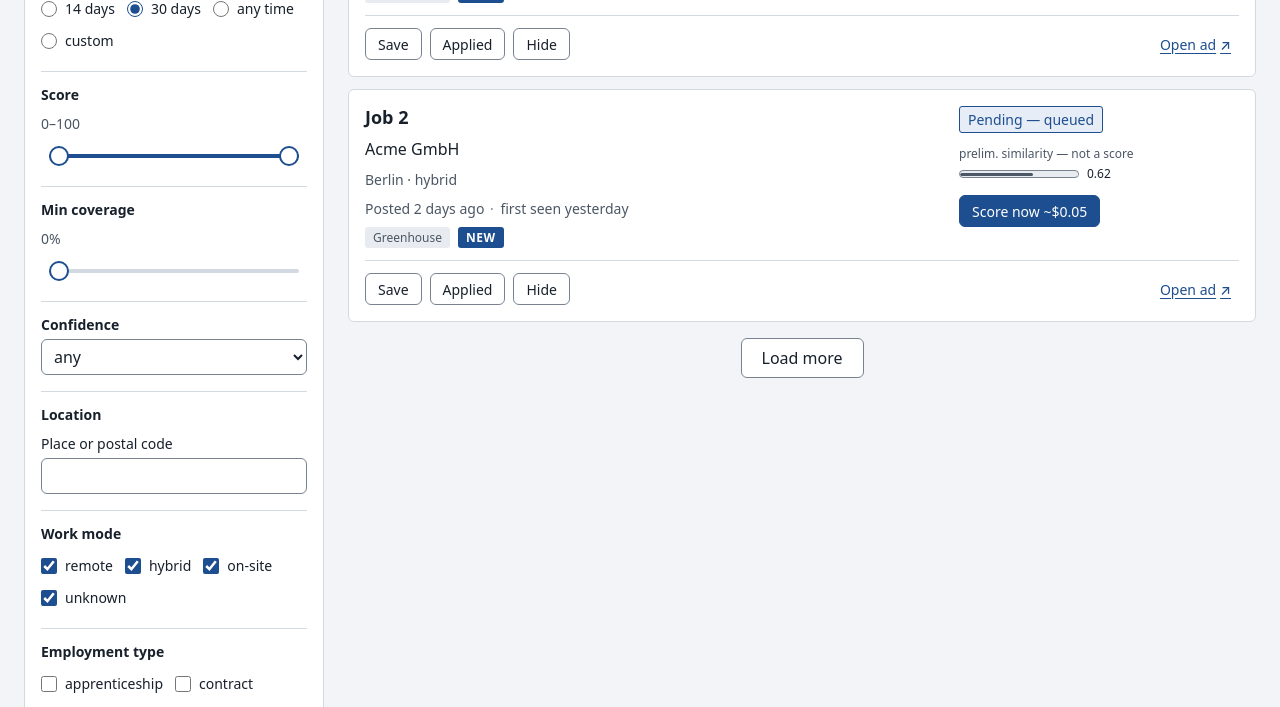
Test: JobsPage › restarts from page 1 on invalid_cursor
(page scrolled)
Expected: the element "Job 2" is shown, [348,89,1256,322]
Click the button "Load more": (802, 358) [740,338,864,378]
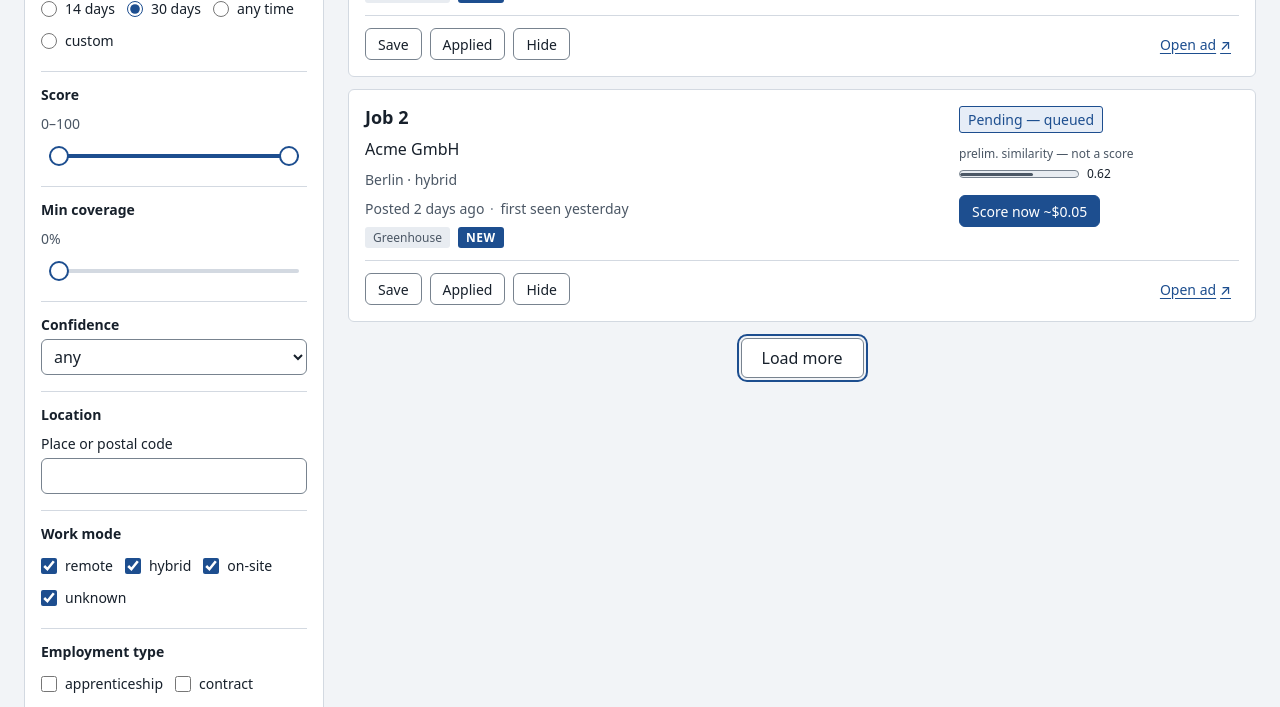
Expected: the element "Job 2" is shown, [348,89,1256,322]
Click the button "Load more": (802, 358) [740,338,864,378]
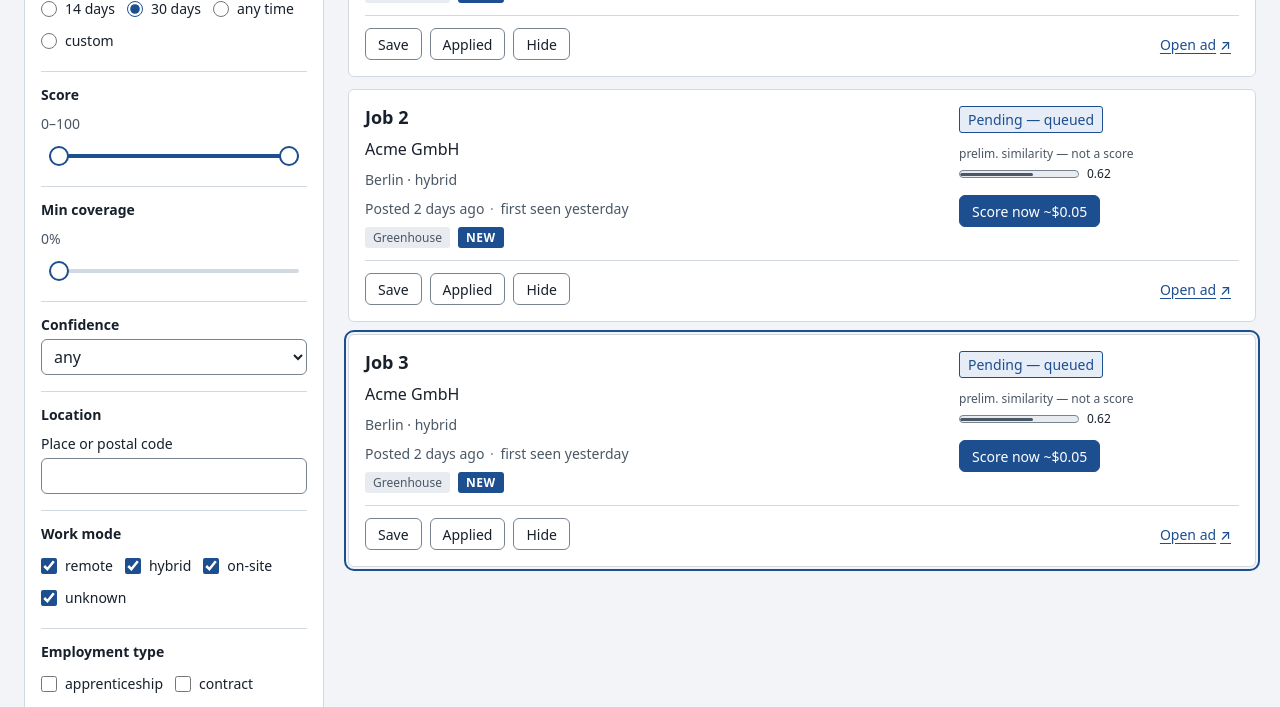
Expected: the element "Job 3" is shown, [348,334,1256,567]
